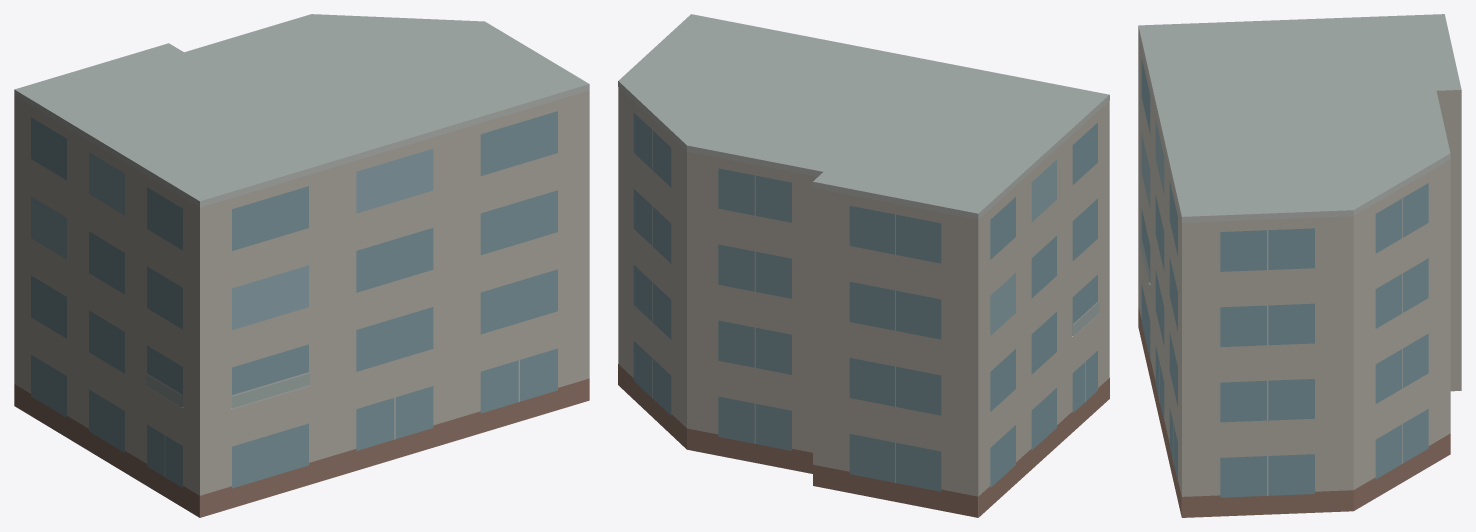
File: survey-upis-32673127.glb
The picture shows the model from 3 angles, left to right: view 1: azimuth 30°, elevation 25°; view 2: azimuth 150°, elevation 25°; view 3: azimuth 270°, elevation 25°; orthographic projection. The views are drawn at different scales.
Parts seen in each view (by area): view 1: survey-upis-32673127.tmp; view 2: survey-upis-32673127.tmp; view 3: survey-upis-32673127.tmp.
Boxes of the visible parts, x1,y1,x2,y2 form: survey-upis-32673127.tmp: [14, 14, 589, 517]; survey-upis-32673127.tmp: [618, 14, 1109, 517]; survey-upis-32673127.tmp: [1138, 14, 1461, 517].
Bounding box in the file's own units: 17.64 × 12.2 × 11.88.
